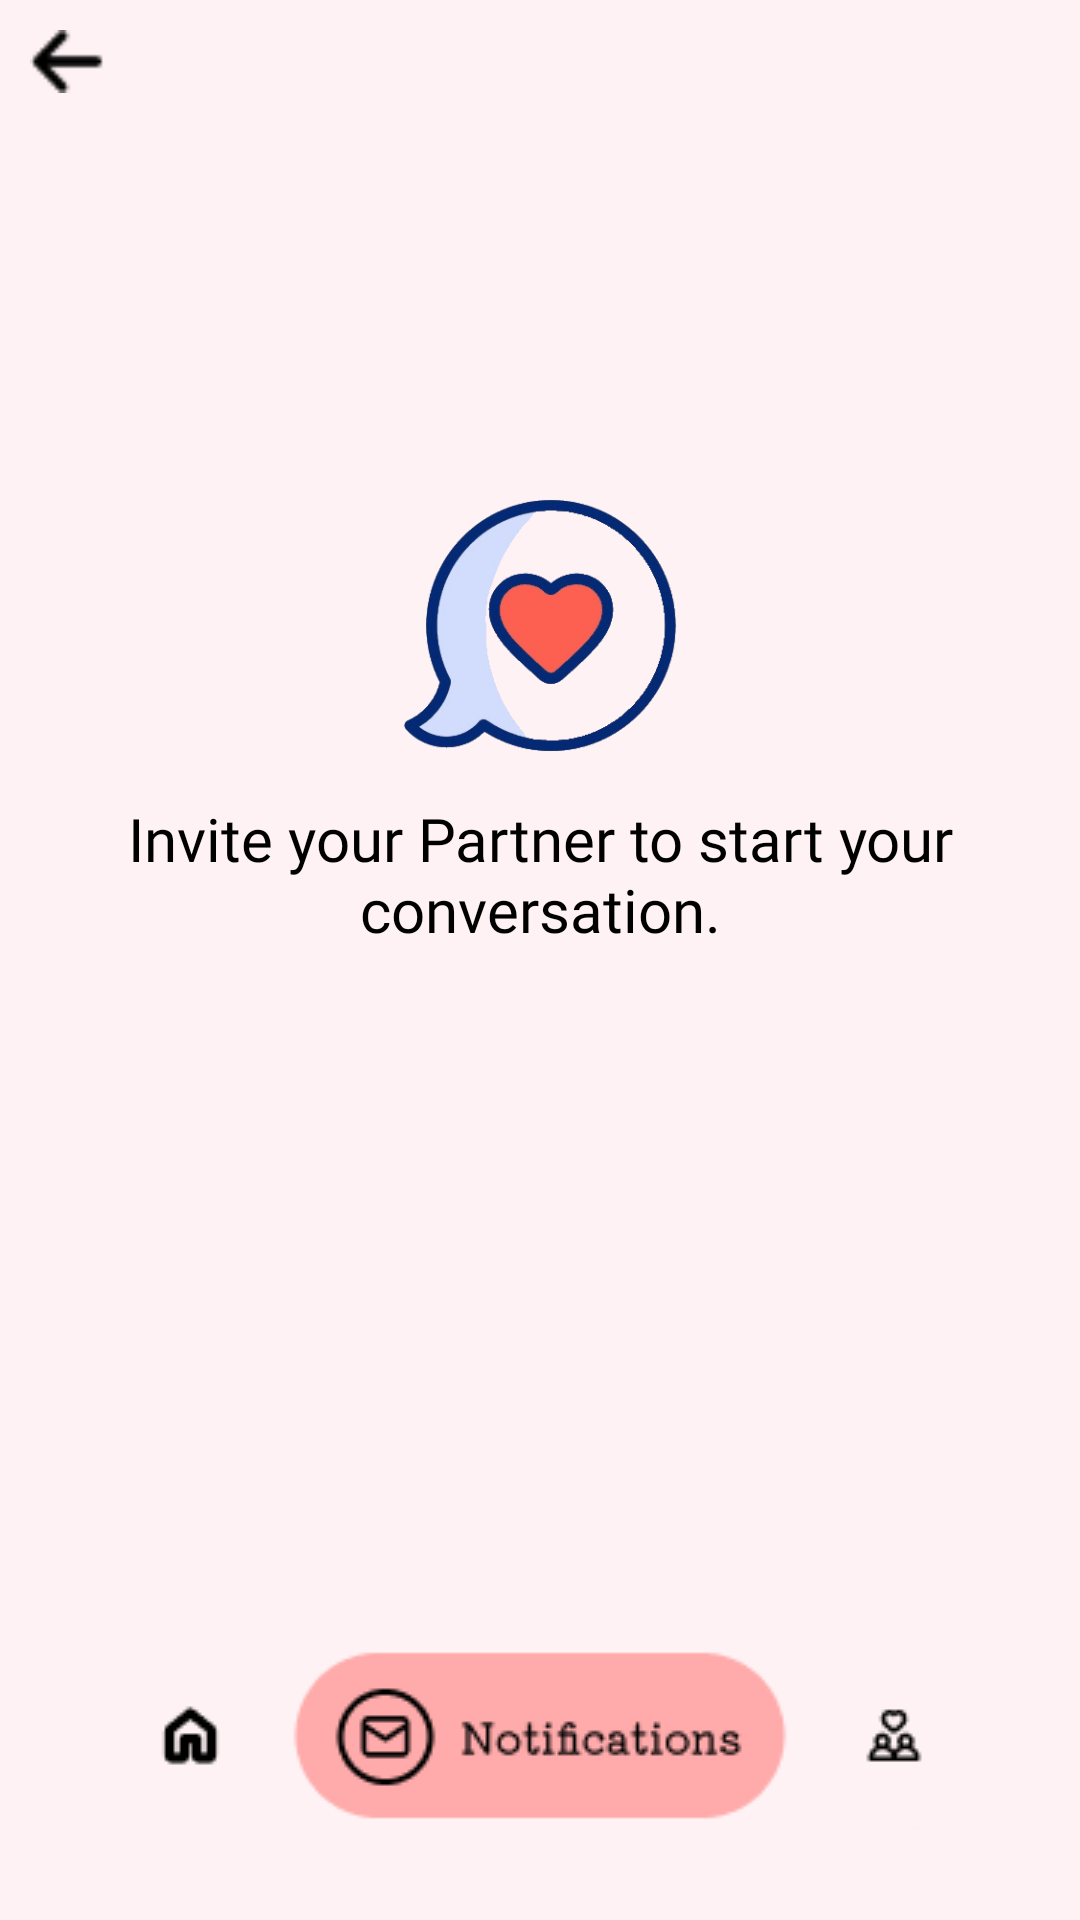

Icons on this 1080x1920 Android screen, each with the point to tap as [x,y]:
back: [66,61]
chat: [540,625]
